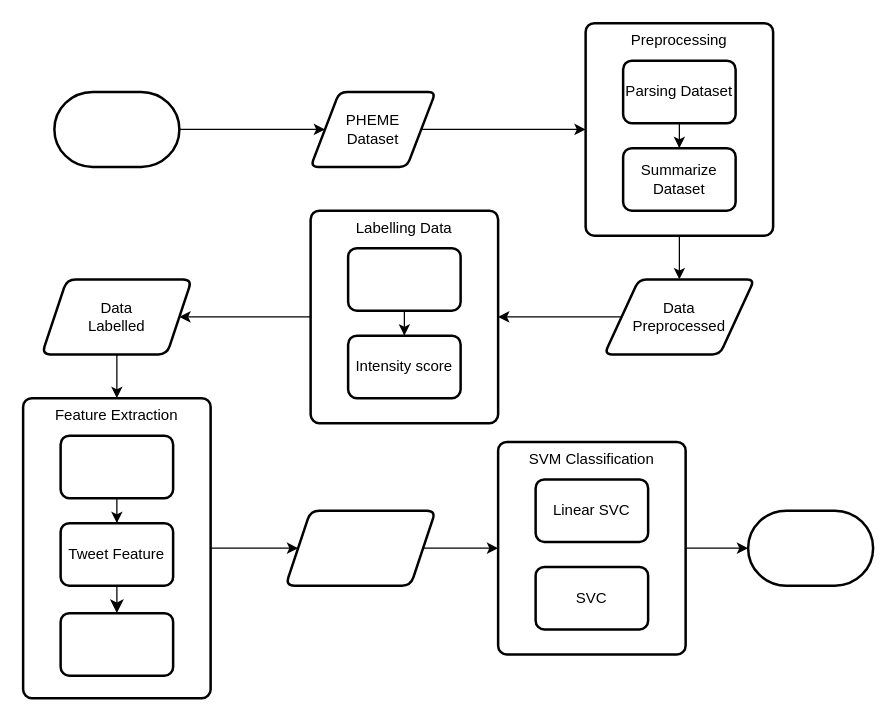
Image size: 895x720. Some labels were removed from this diagram. Each missing label, with the centre of its shape:
Analisis Sentimen: (x=403, y=278)
Conversation Feature: (x=116, y=643)
Data Extracted: (x=360, y=547)
Finish: (x=810, y=547)
Start: (x=116, y=129)
User Feature: (x=116, y=466)
